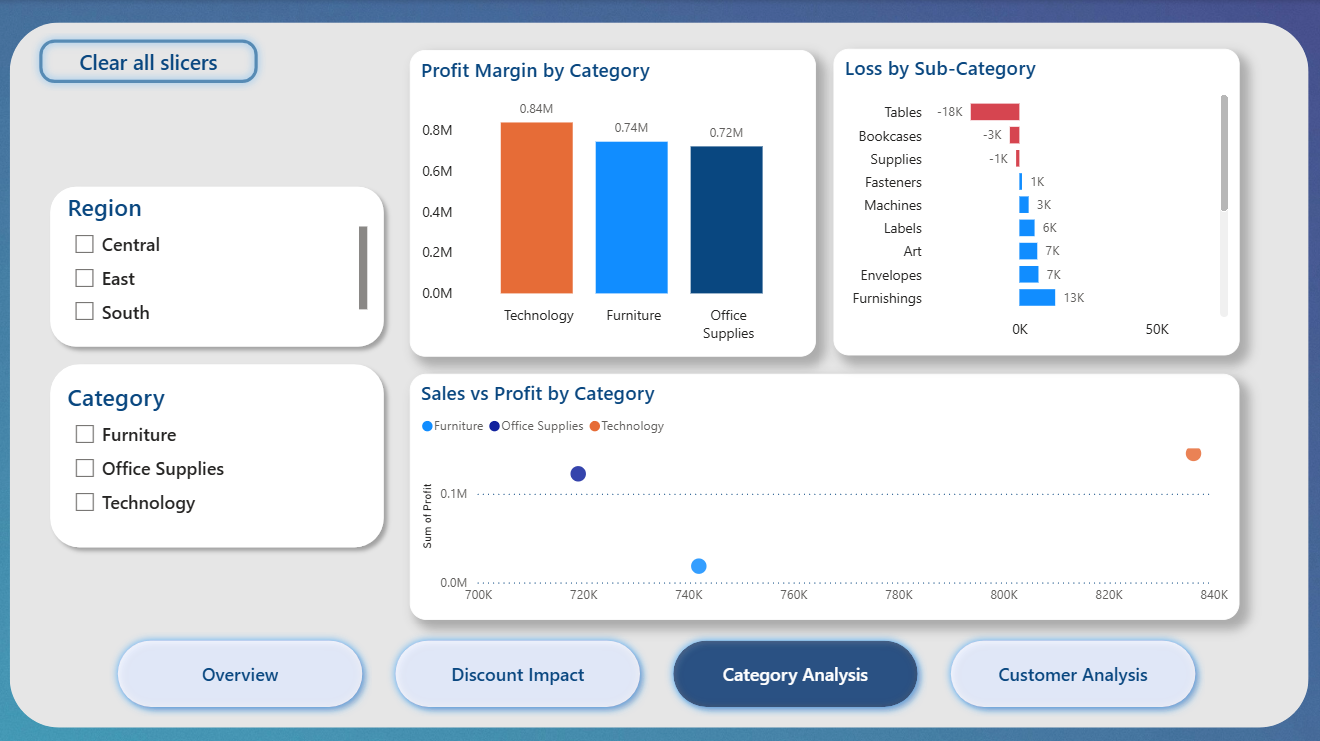

What the dashboard file says about the page in this screenshot:
{"tool":"powerbi","page":{"name":"Category Analysis","canvas":[1280,720],"ordinal":2},"visuals":[{"type":"shape","box":[13.3,21.7,1253.5,680.4],"z":0},{"type":"pageNavigator","box":[108.6,609.3,1061.7,82],"z":1000},{"type":"group","id":"g1","title":"Group 1","box":[43.8,171.6,339.5,172.8],"z":2000},{"type":"group","id":"g2","title":"Group 2","box":[43.8,343.2,339.5,193.5],"z":3000},{"type":"clusteredColumnChart","title":"Profit Margin by Category","fields":{"Category":["revenue analysis.Category"],"Y":["Sum(revenue analysis.Sales)"]},"box":[399.2,48.7,391.9,295.7],"z":4000},{"type":"scatterChart","title":"Sales vs Profit by Category","fields":{"X":["Sum(revenue analysis.Sales)"],"Y":["Sum(revenue analysis.Profit)"],"Series":["revenue analysis.Category"]},"box":[399.2,360.2,800.8,237.3],"z":5000},{"type":"clusteredBarChart","title":"Loss by Sub-Category","fields":{"Category":["revenue analysis.Sub-Category"],"Y":["Sum(revenue analysis.Profit)"]},"box":[808.1,47.5,391.9,295.7],"z":6000},{"type":"actionButton","box":[33.8,30.2,226.8,57.9],"z":7000},{"type":"shape","box":[43.8,171.6,339.7,172.1],"z":7000,"group":"g1"},{"type":"slicer","title":"Region","fields":{"Values":["revenue analysis.Region"]},"box":[63.9,183.9,299.4,143.4],"z":8000,"group":"g1"},{"type":"shape","box":[43.8,343.2,339.7,194.6],"z":9000,"group":"g2"},{"type":"slicer","title":"Category","fields":{"Values":["revenue analysis.Category"]},"box":[63.9,367.8,299.4,145.3],"z":11000,"group":"g2"}]}

Visuals, with their boxes in screenshot pixels (x1, y1, x2, y2), scaled from the page's 1280x720 canvas onto the 1320x741 screenshot:
shape: [14, 22, 1306, 723]
pageNavigator: [112, 627, 1207, 711]
"Group 1" group: [45, 177, 395, 354]
"Group 2" group: [45, 353, 395, 552]
"Profit Margin by Category" clusteredColumnChart: [412, 50, 816, 354]
"Sales vs Profit by Category" scatterChart: [412, 371, 1238, 615]
"Loss by Sub-Category" clusteredBarChart: [833, 49, 1238, 353]
actionButton: [35, 31, 269, 91]
shape: [45, 177, 395, 354]
"Region" slicer: [66, 189, 375, 337]
shape: [45, 353, 395, 553]
"Category" slicer: [66, 379, 375, 528]
